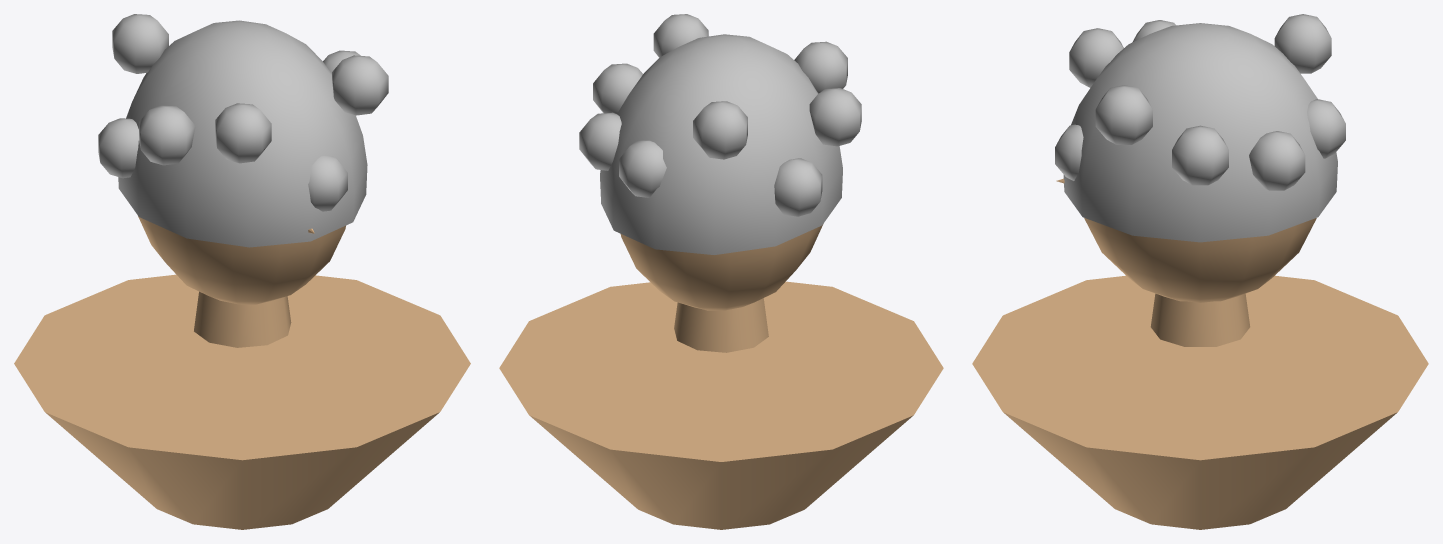
File: raw_002.glb
3 renders of one model, left to right at view 1: azimuth 30°, elevation 25°; view 2: azimuth 150°, elevation 25°; view 3: azimuth 270°, elevation 25°, orthographic. The views are drawn at different scales.
Size of the model in its own units: 1.93 by 2.12 by 1.93.
